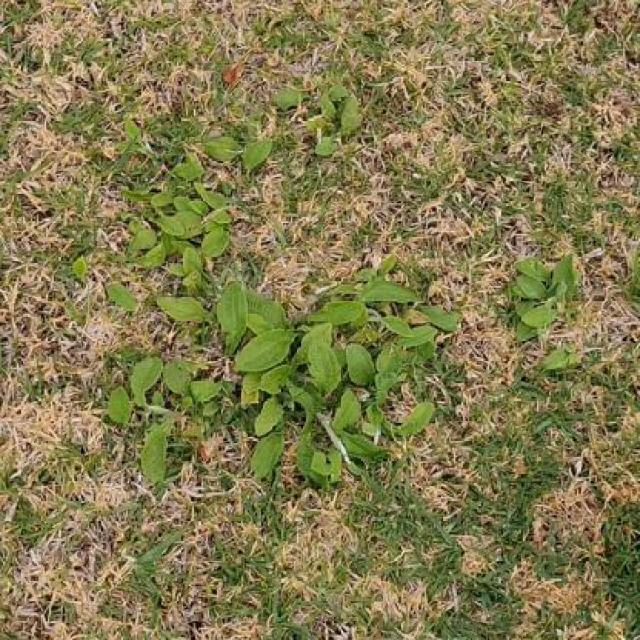weed: (108, 152, 460, 489), (511, 257, 580, 341)
